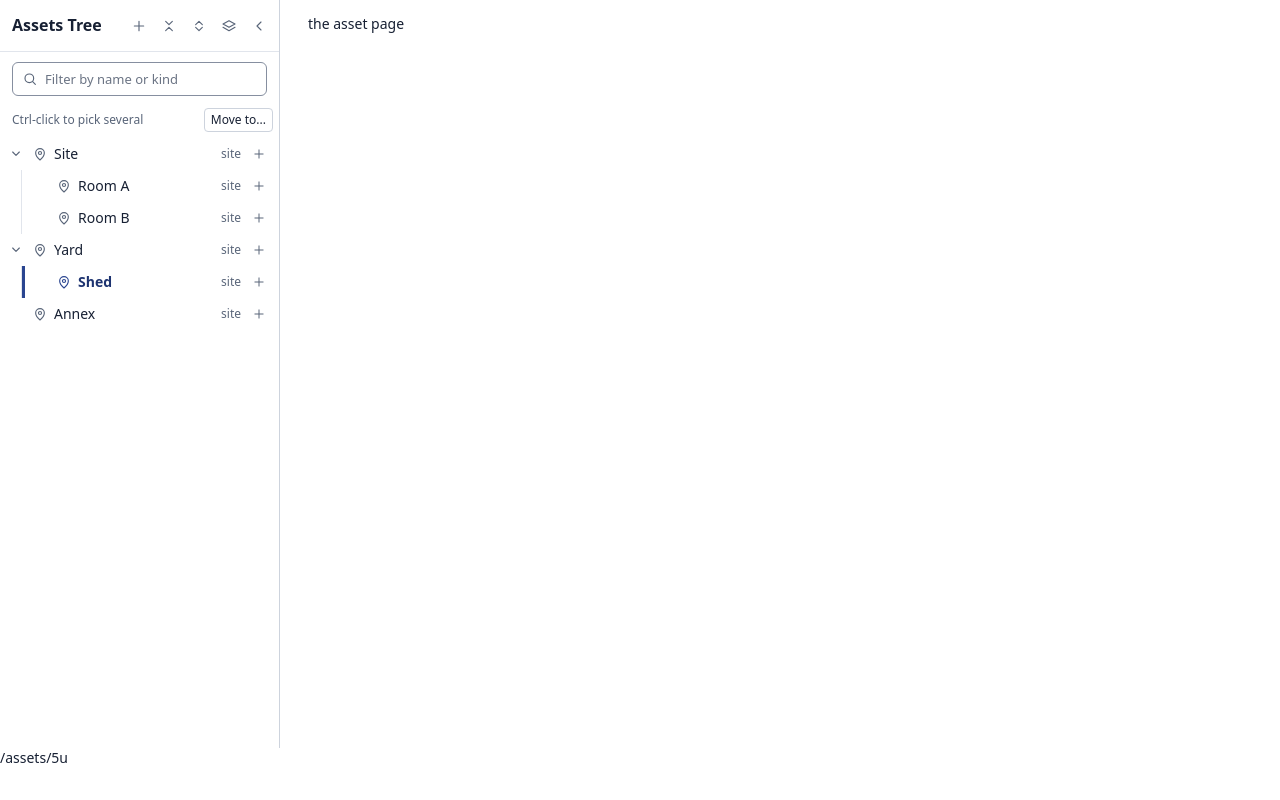
Test: deleting the picked assets from the pick bar (W7s) › Ctrl-click two, Delete in the bar, the dialog, one DELETE each with the counts the impact showed, the toast, the picks gone, the focus on the next row
expect the link "Annex" is shown: met, box [54,304,95,323]
expect the element named "Selection" is shown: met, box [0,104,279,136]
Click the link "Room A": (104, 186) [78,176,129,195]
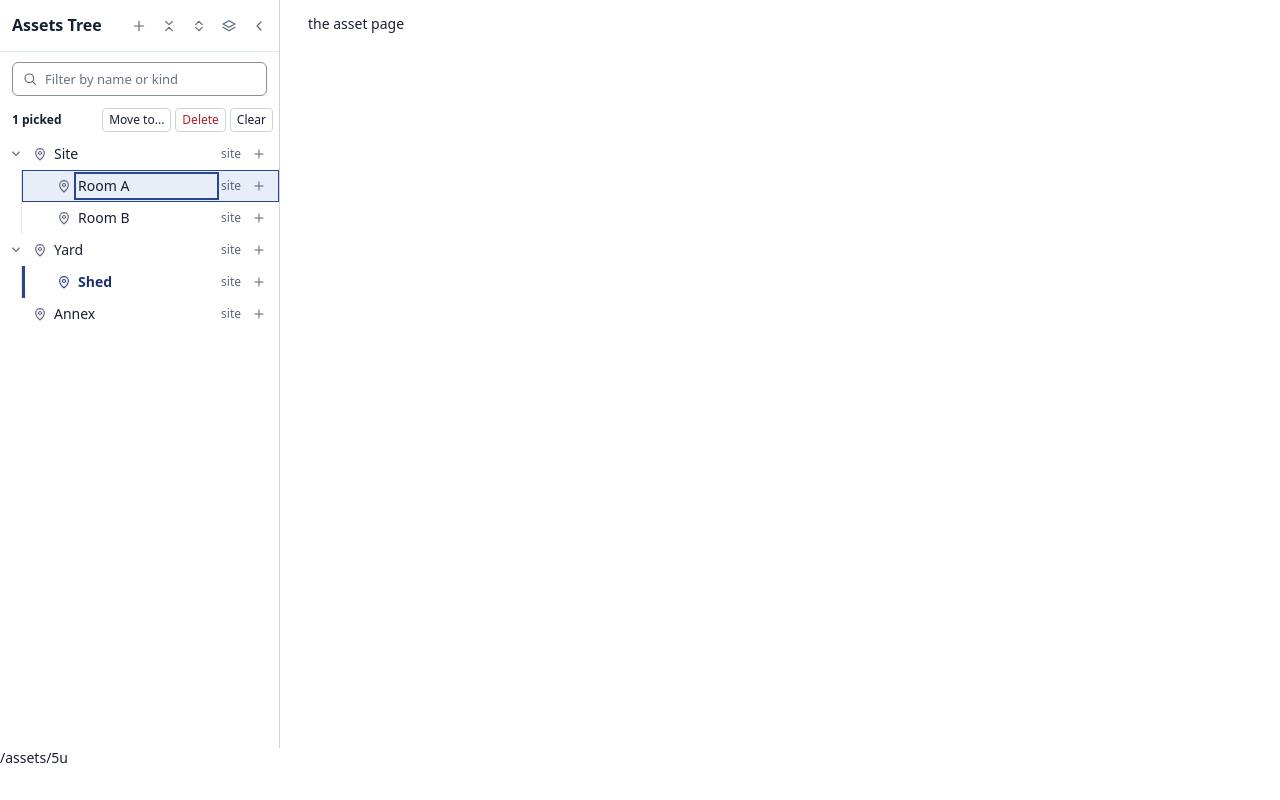
Click the link "Annex": (75, 314) [54,304,95,323]
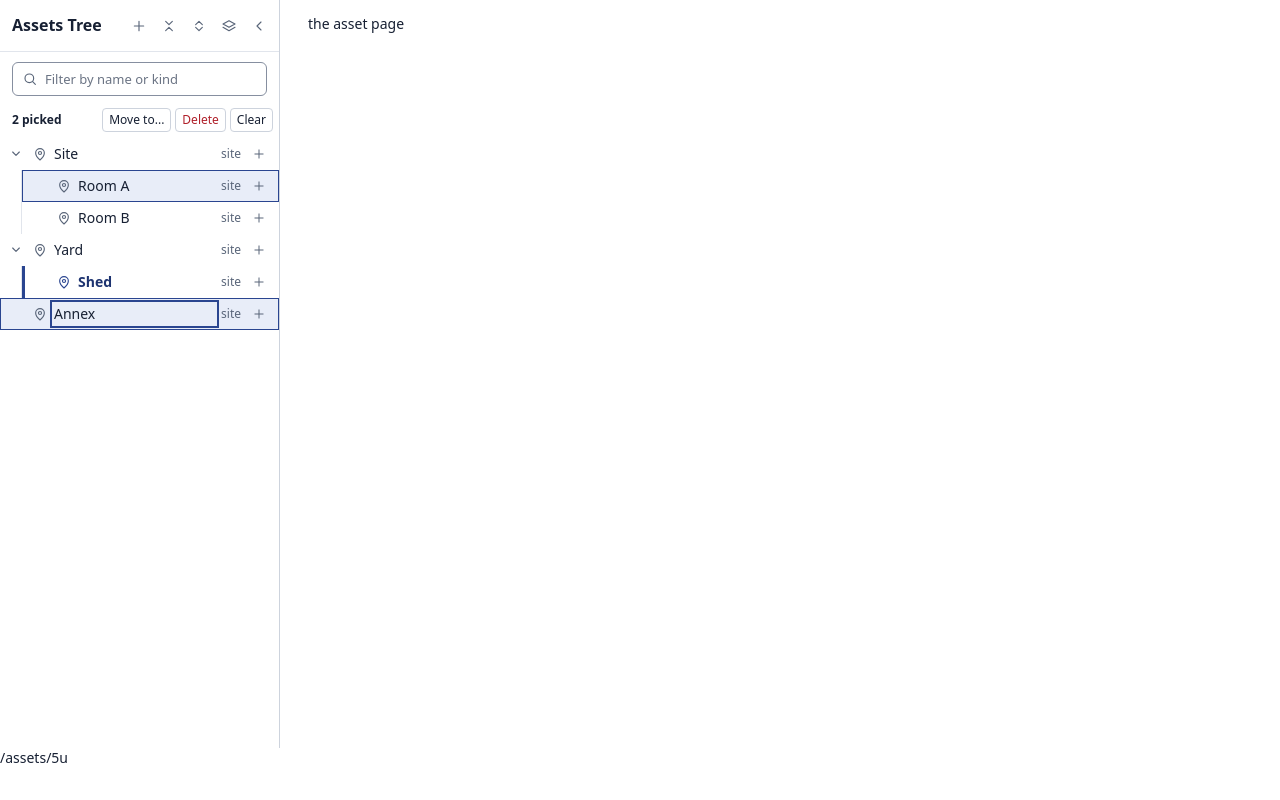
expect the element named "Selection" shows "2 picked": met, box [12,111,62,128]
Click the button with aria-label "Delete the 2 picked assets": (201, 120) [175,108,226,132]
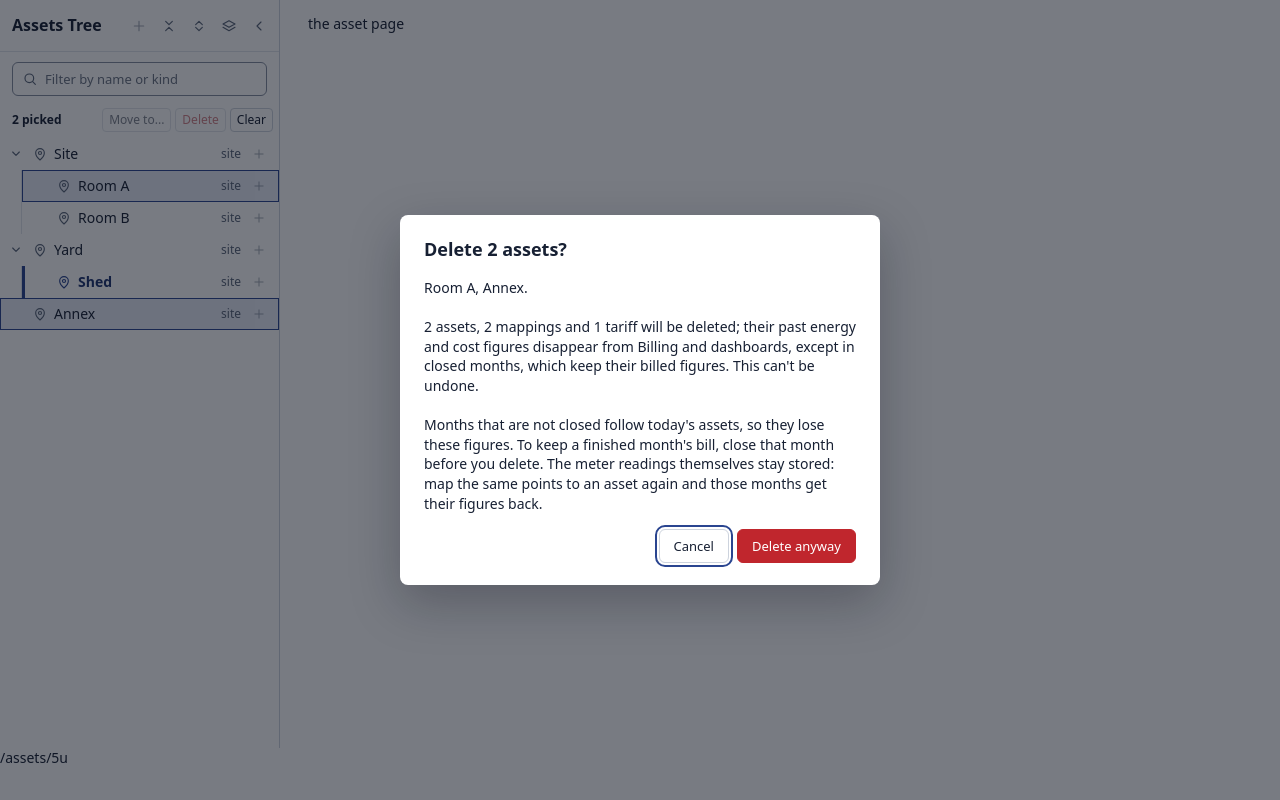
expect the button "Delete anyway" is enabled: met
expect the dialog "Delete 2 assets?" shows "Room A": met, box [424,278,856,395]
expect the dialog "Delete 2 assets?" shows "Annex": met, box [424,278,856,395]
Click the button "Delete anyway": (796, 546) [737,529,856,563]
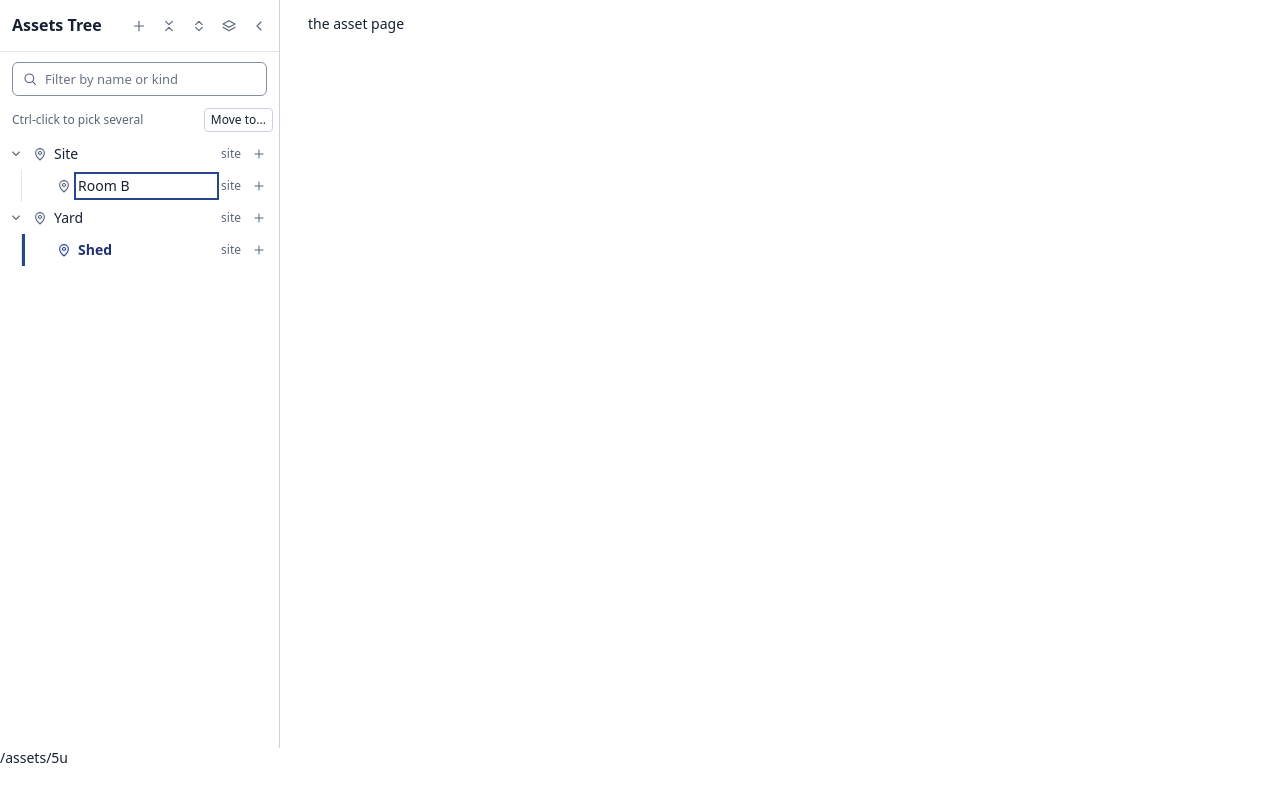
expect the dialog is gone: met
expect the link "Room A" is gone: met
expect the element named "Selection" no longer shows "picked": met, box [0,104,279,136]
